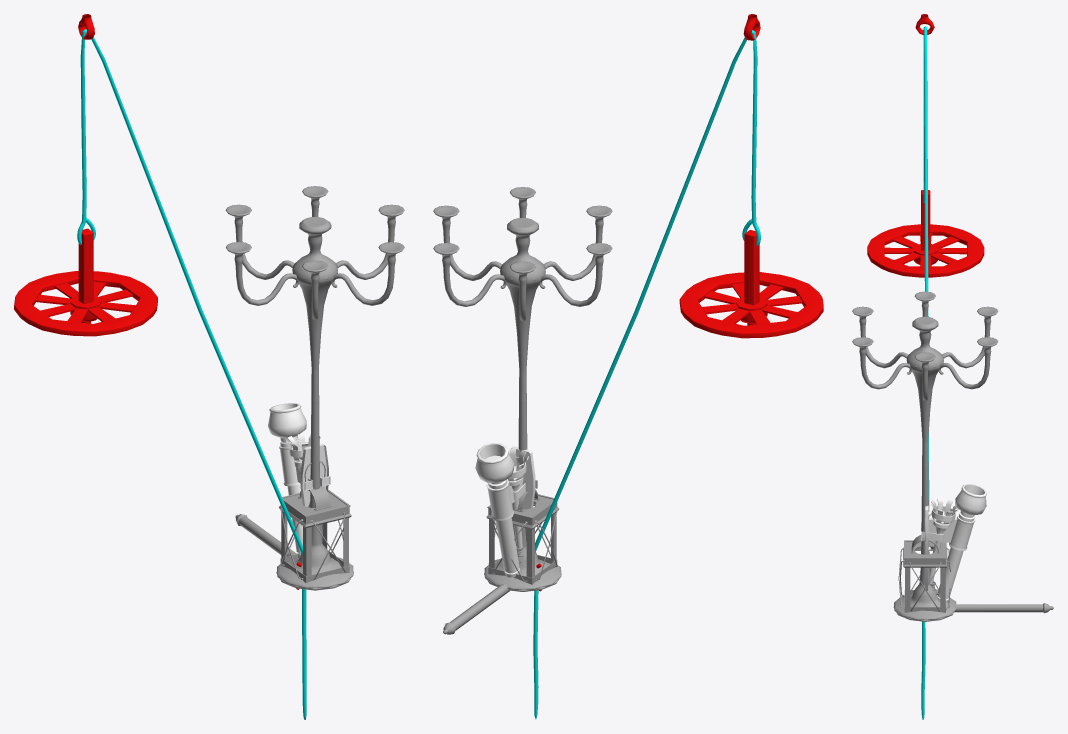
File: Lights.fbx
3 views of the same model, side by side, from view 1: azimuth 30°, elevation 25°; view 2: azimuth 150°, elevation 25°; view 3: azimuth 270°, elevation 25° (orthographic). The views are drawn at different scales.
Visible parts, largest first — view 1: Light03, LightCandleHolderB01, LightCandleHolderB02, LightLanternB04, Light01, Light02, LightRodB03; view 2: Light03, LightCandleHolderB01, LightCandleHolderB02, Light01, LightLanternB04, Light02, LightRodB03; view 3: Light03, LightCandleHolderB01, LightCandleHolderB02, Light01, LightLanternB04, Light02, LightRodB03.
Boxes of the visible parts, x1,y1,x2,y2 form: Light03: [14, 14, 306, 719]; LightCandleHolderB01: [225, 186, 404, 590]; LightCandleHolderB02: [277, 217, 353, 588]; LightLanternB04: [279, 461, 351, 582]; Light01: [268, 403, 328, 558]; Light02: [285, 433, 330, 490]; LightRodB03: [235, 514, 296, 556]; Light03: [533, 14, 823, 719]; LightCandleHolderB01: [433, 187, 612, 591]; LightCandleHolderB02: [484, 217, 561, 590]; Light01: [475, 443, 535, 578]; LightLanternB04: [486, 489, 559, 584]; Light02: [508, 448, 537, 548]; LightRodB03: [443, 583, 509, 634]; Light03: [867, 14, 984, 719]; LightCandleHolderB01: [852, 291, 998, 621]; LightCandleHolderB02: [894, 316, 956, 620]; Light01: [925, 484, 987, 603]; LightLanternB04: [898, 518, 950, 612]; Light02: [921, 499, 958, 583]; LightRodB03: [954, 603, 1053, 613].
Size of the model in its own units: 180 by 343 by 102.
